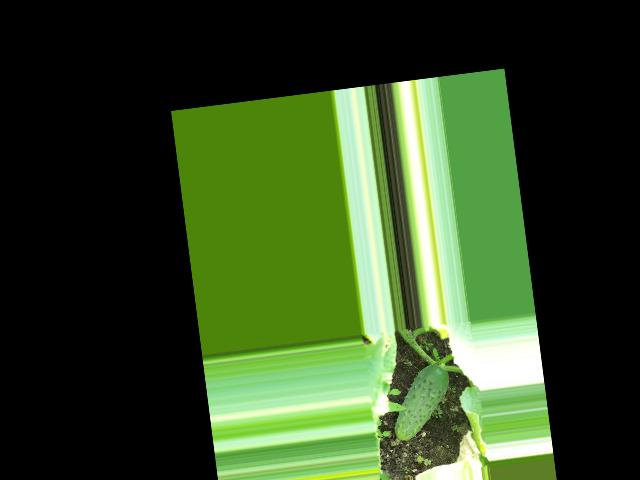cucumber: (386, 361, 456, 441)
